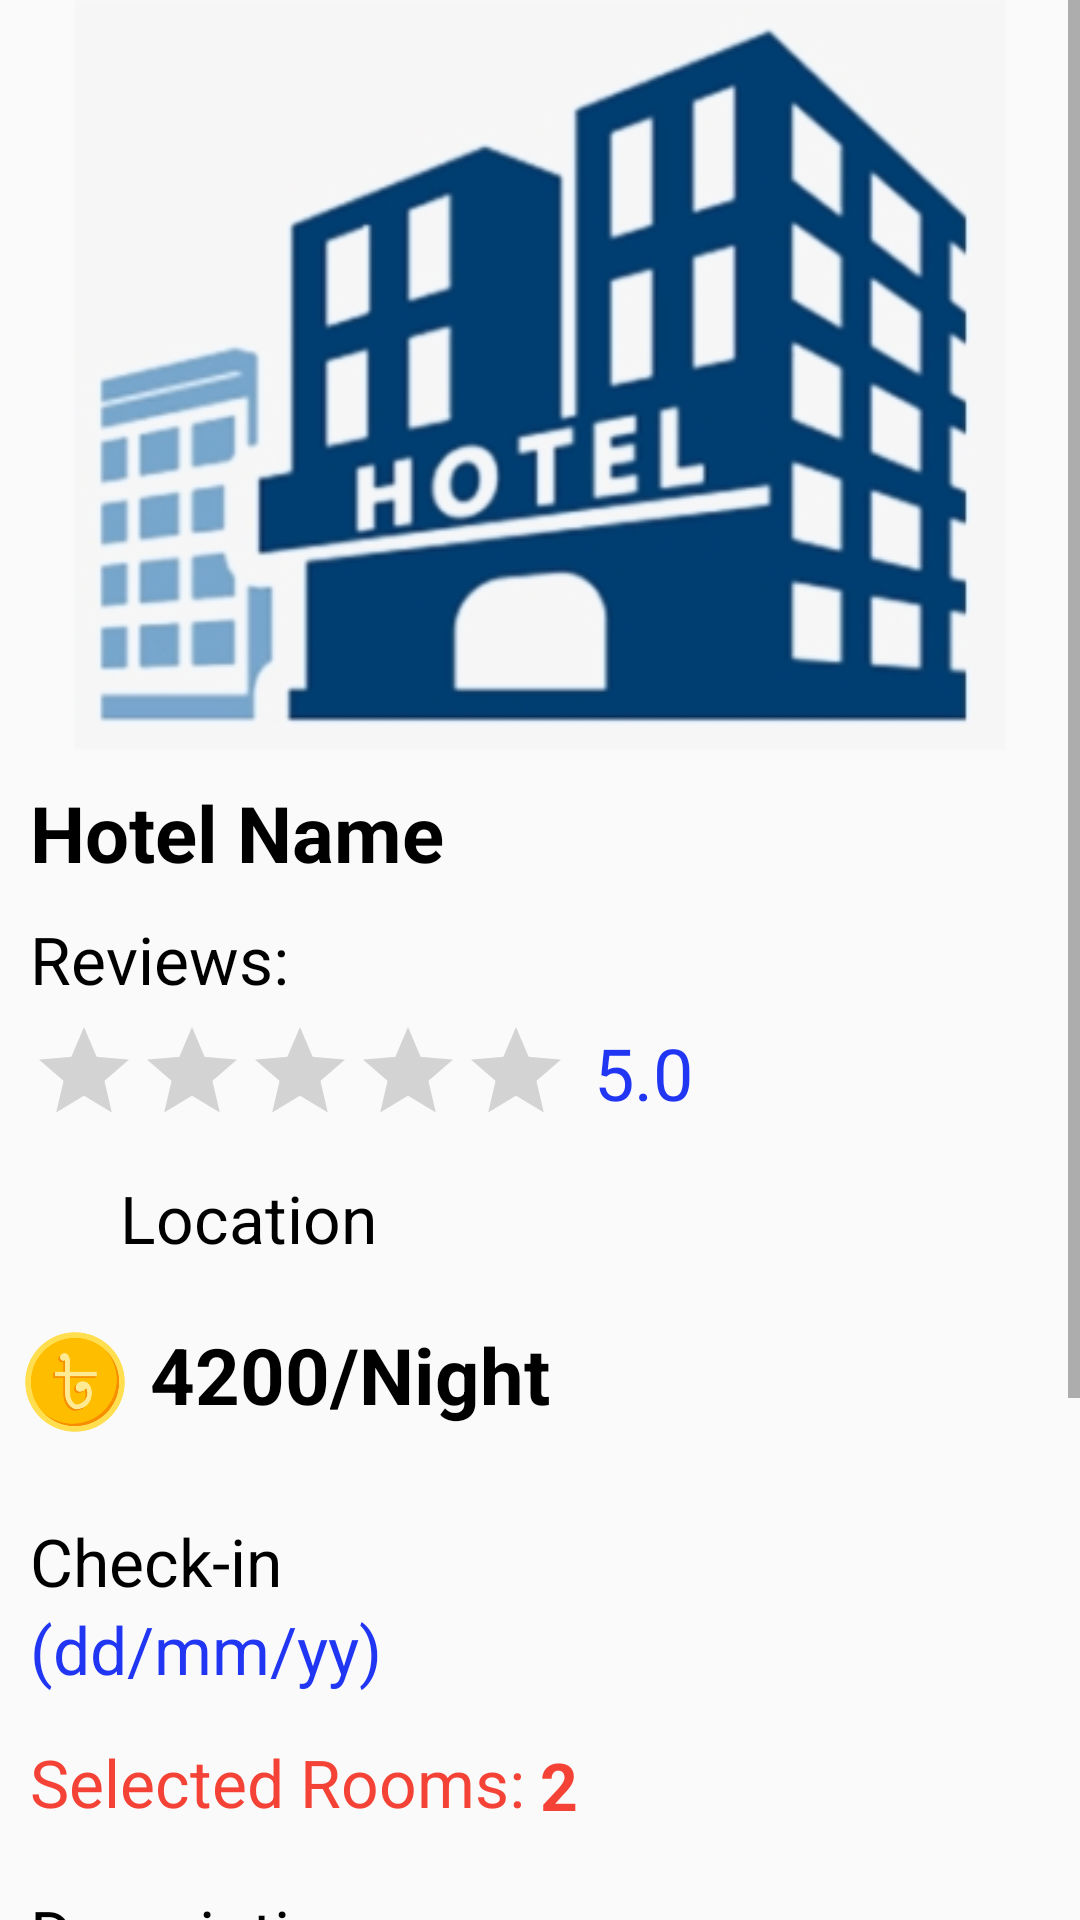

Icon bounding boxes for this 1080px×1920px phone screenshot, format detection(x1, y1, x2, y2):
taka: detection(25, 1332, 125, 1432)
